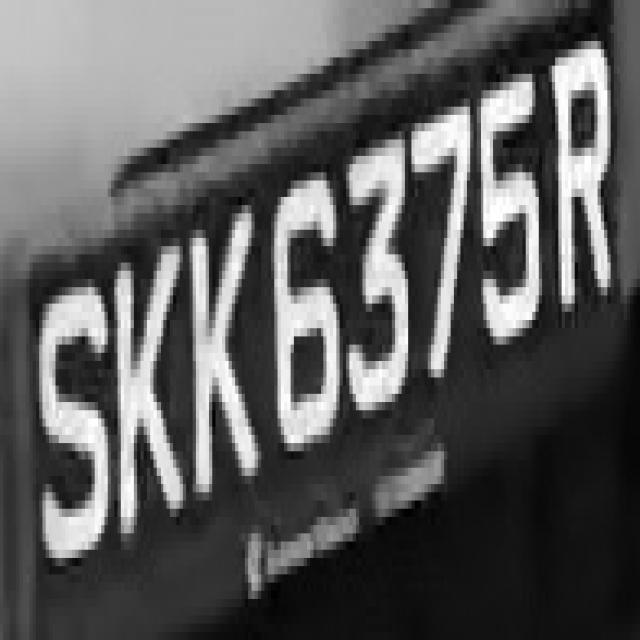3: (326, 123, 418, 460)
5: (464, 49, 545, 369)
6: (268, 156, 343, 468)
7: (392, 82, 480, 410)
K: (98, 197, 180, 582), (180, 197, 261, 533)
R: (545, 33, 617, 369)
S: (33, 255, 114, 582)
